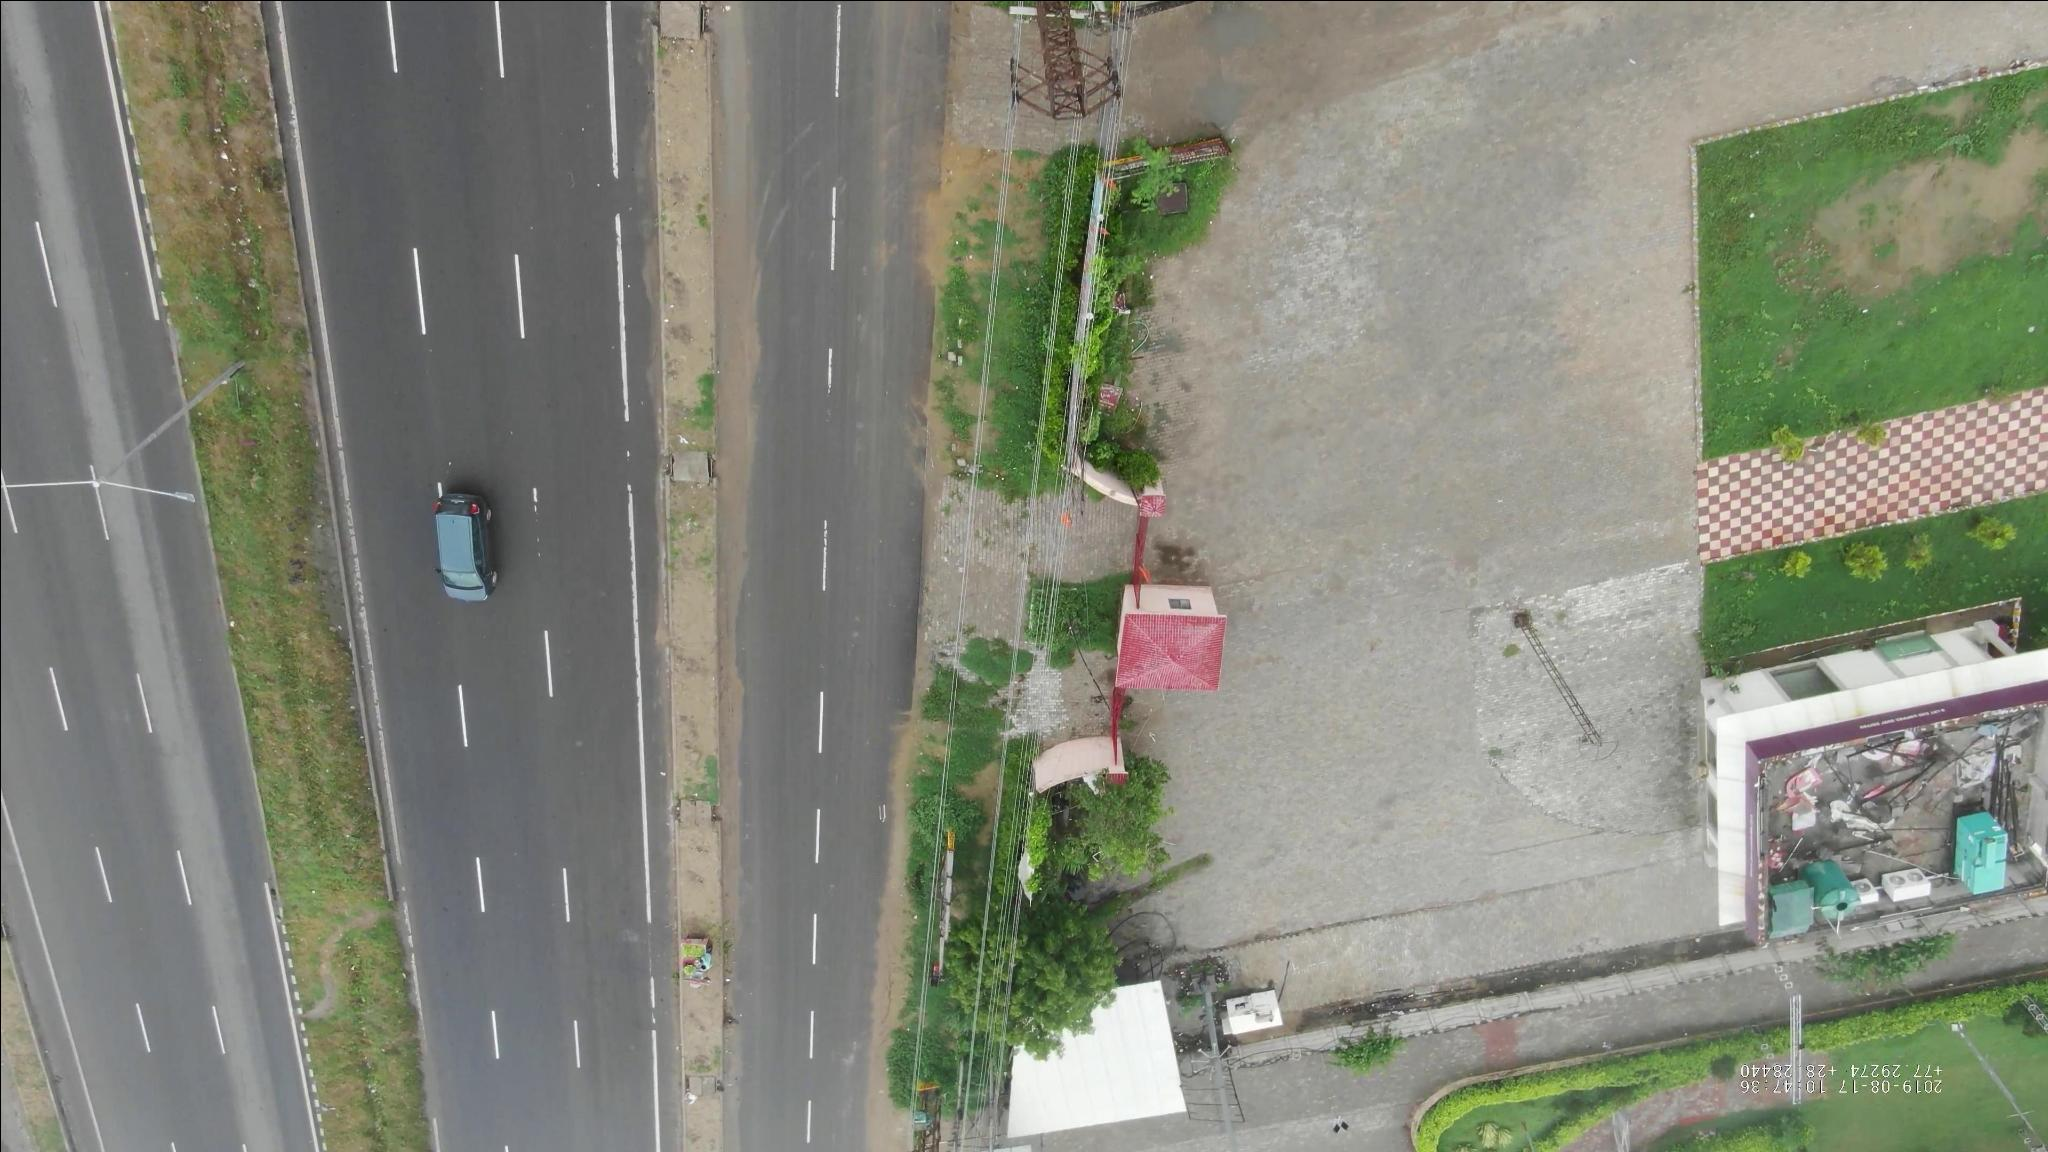Muddy_road: (720, 535, 747, 778), (722, 283, 753, 437)
